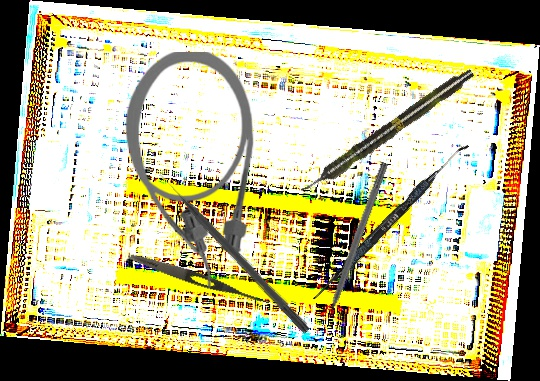Cannula: (125, 52, 254, 288)
Dressing Forceps: (128, 250, 272, 309)
Handpiece: (297, 64, 477, 199)
Hook Surgical: (319, 161, 390, 329)
Pusher: (156, 169, 313, 335)
Spatula Surgical: (310, 137, 470, 306)
